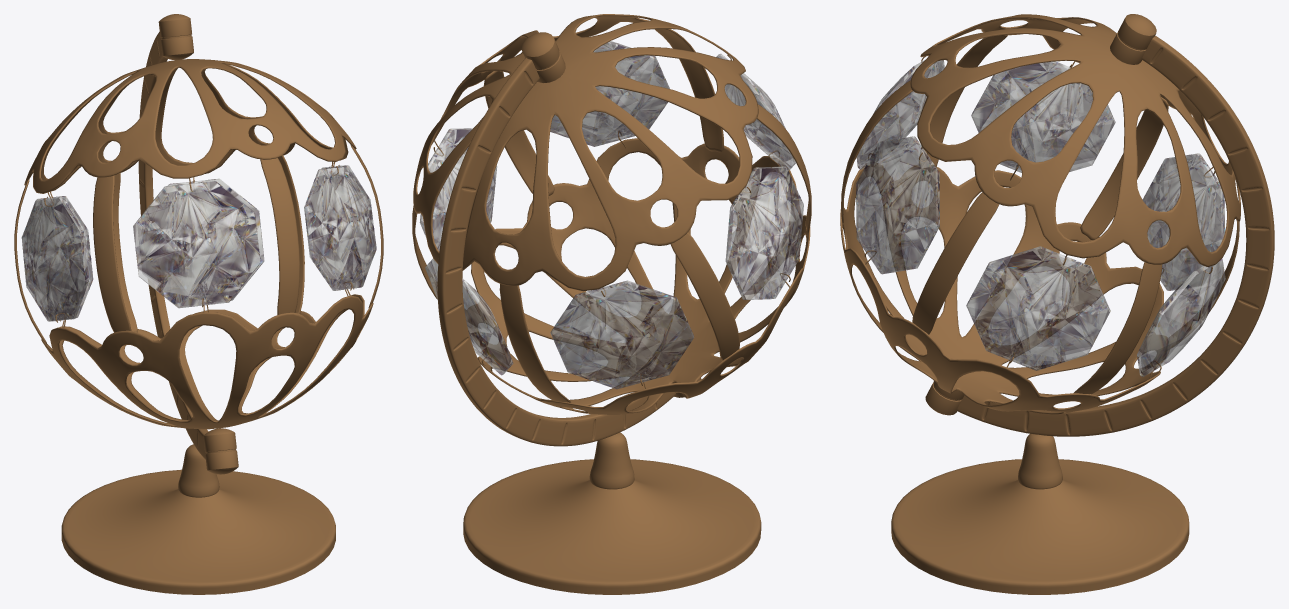
The model's file is globus.fbx.
3 views of the same model, side by side, from view 1: azimuth 30°, elevation 25°; view 2: azimuth 150°, elevation 25°; view 3: azimuth 270°, elevation 25° (orthographic). The views are drawn at different scales.
Parts seen in each view (by area): view 1: OilTank001; view 2: OilTank001; view 3: OilTank001.
Boxes of the visible parts, x1,y1,x2,y2 form: OilTank001: [14, 14, 383, 594]; OilTank001: [412, 14, 811, 594]; OilTank001: [840, 14, 1274, 594].
Size of the model in its own units: 16.54 by 24.12 by 18.05.
Materials: 2 (1 with a texture image).
